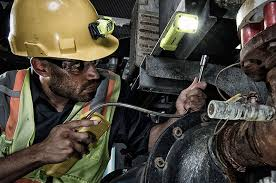Person_wearing_helmet: (6, 0, 124, 80)
